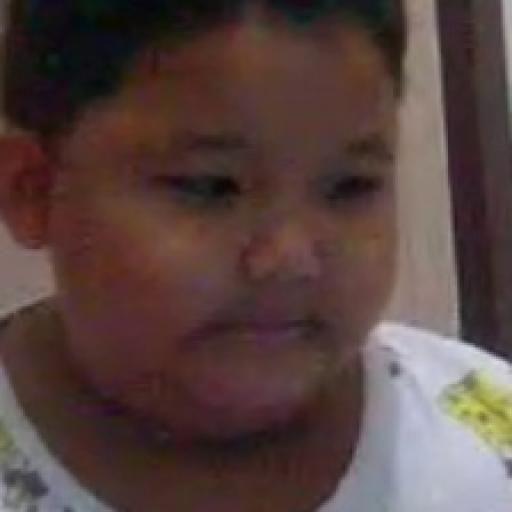Autism: (0, 0, 443, 404)
